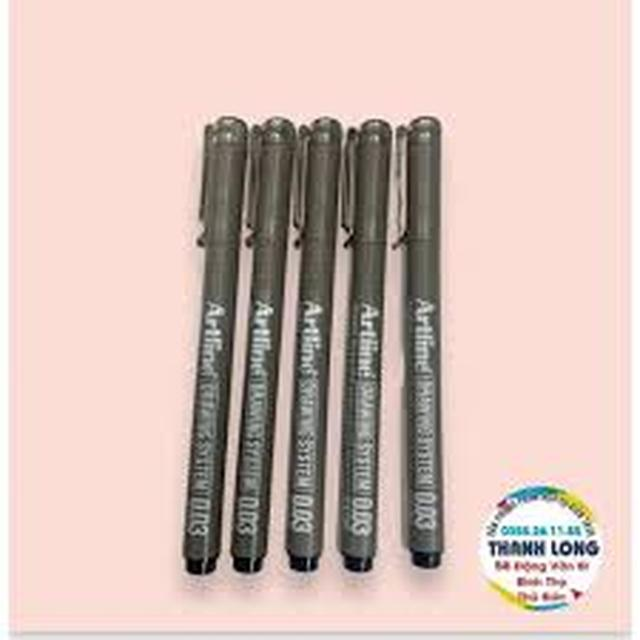pen: (173, 116, 249, 574), (244, 109, 299, 559), (401, 106, 453, 568), (344, 97, 386, 569), (302, 90, 330, 567)
